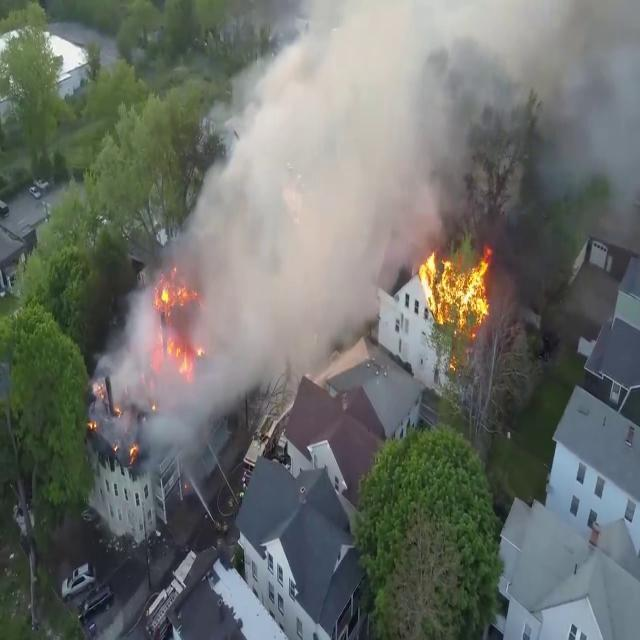Fire: (412, 234, 496, 340)
Smoke: (94, 1, 476, 467), (456, 0, 637, 247)
